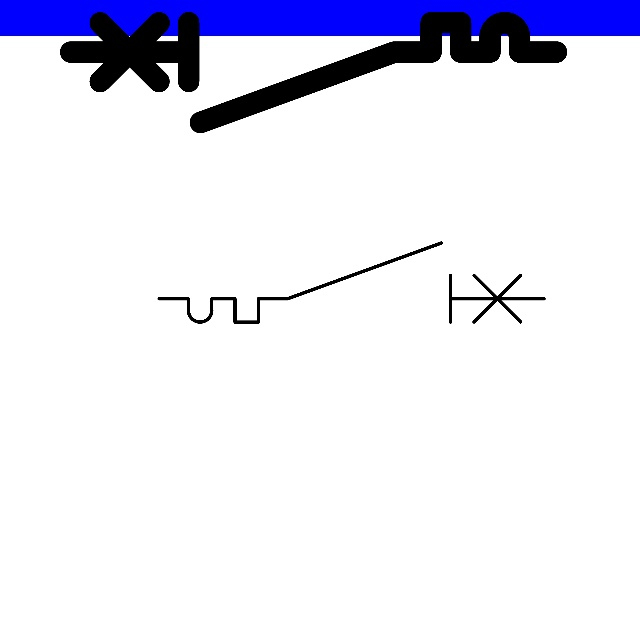interruptor_termomagnetico: (58, 10, 569, 135), (149, 233, 554, 332)
